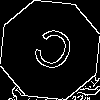C: (25, 25, 78, 82)
